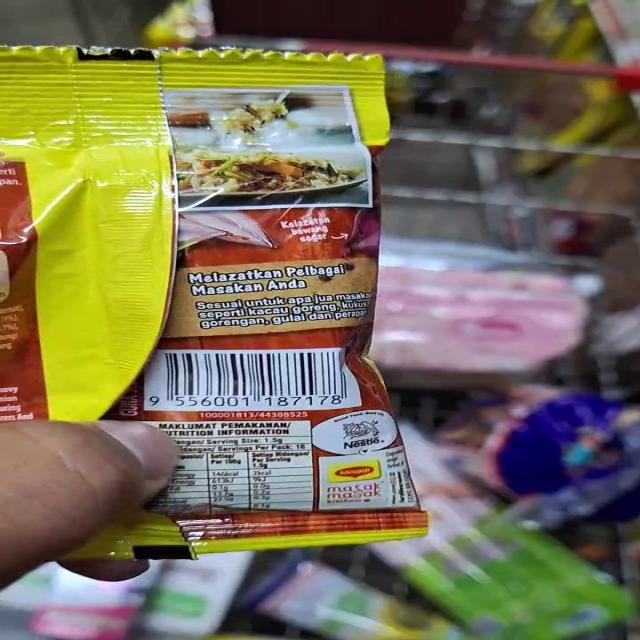Maggi Cukup Rasa: (0, 44, 436, 553)
